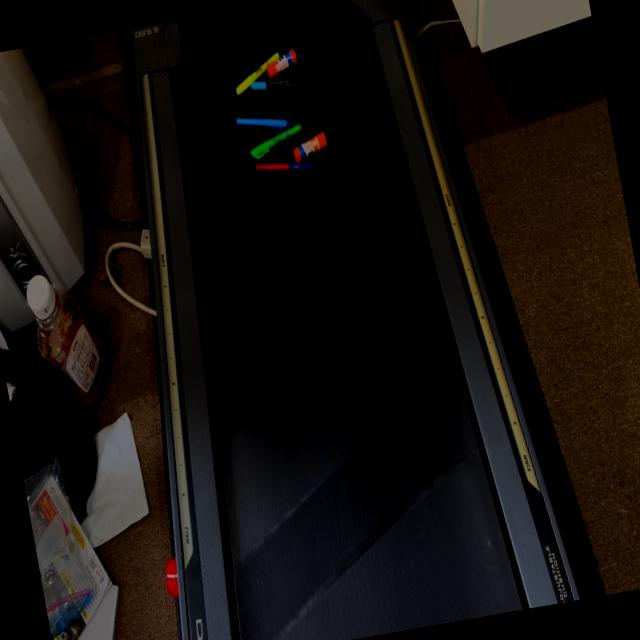Trash: (222, 34, 328, 186)
